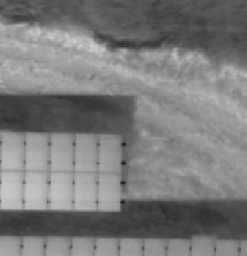solar: (21, 130, 52, 172), (46, 130, 77, 172), (70, 130, 101, 172), (93, 130, 124, 172), (93, 170, 124, 212), (71, 170, 102, 212), (45, 169, 76, 211), (20, 169, 51, 211), (1, 129, 31, 171), (1, 169, 31, 211)
